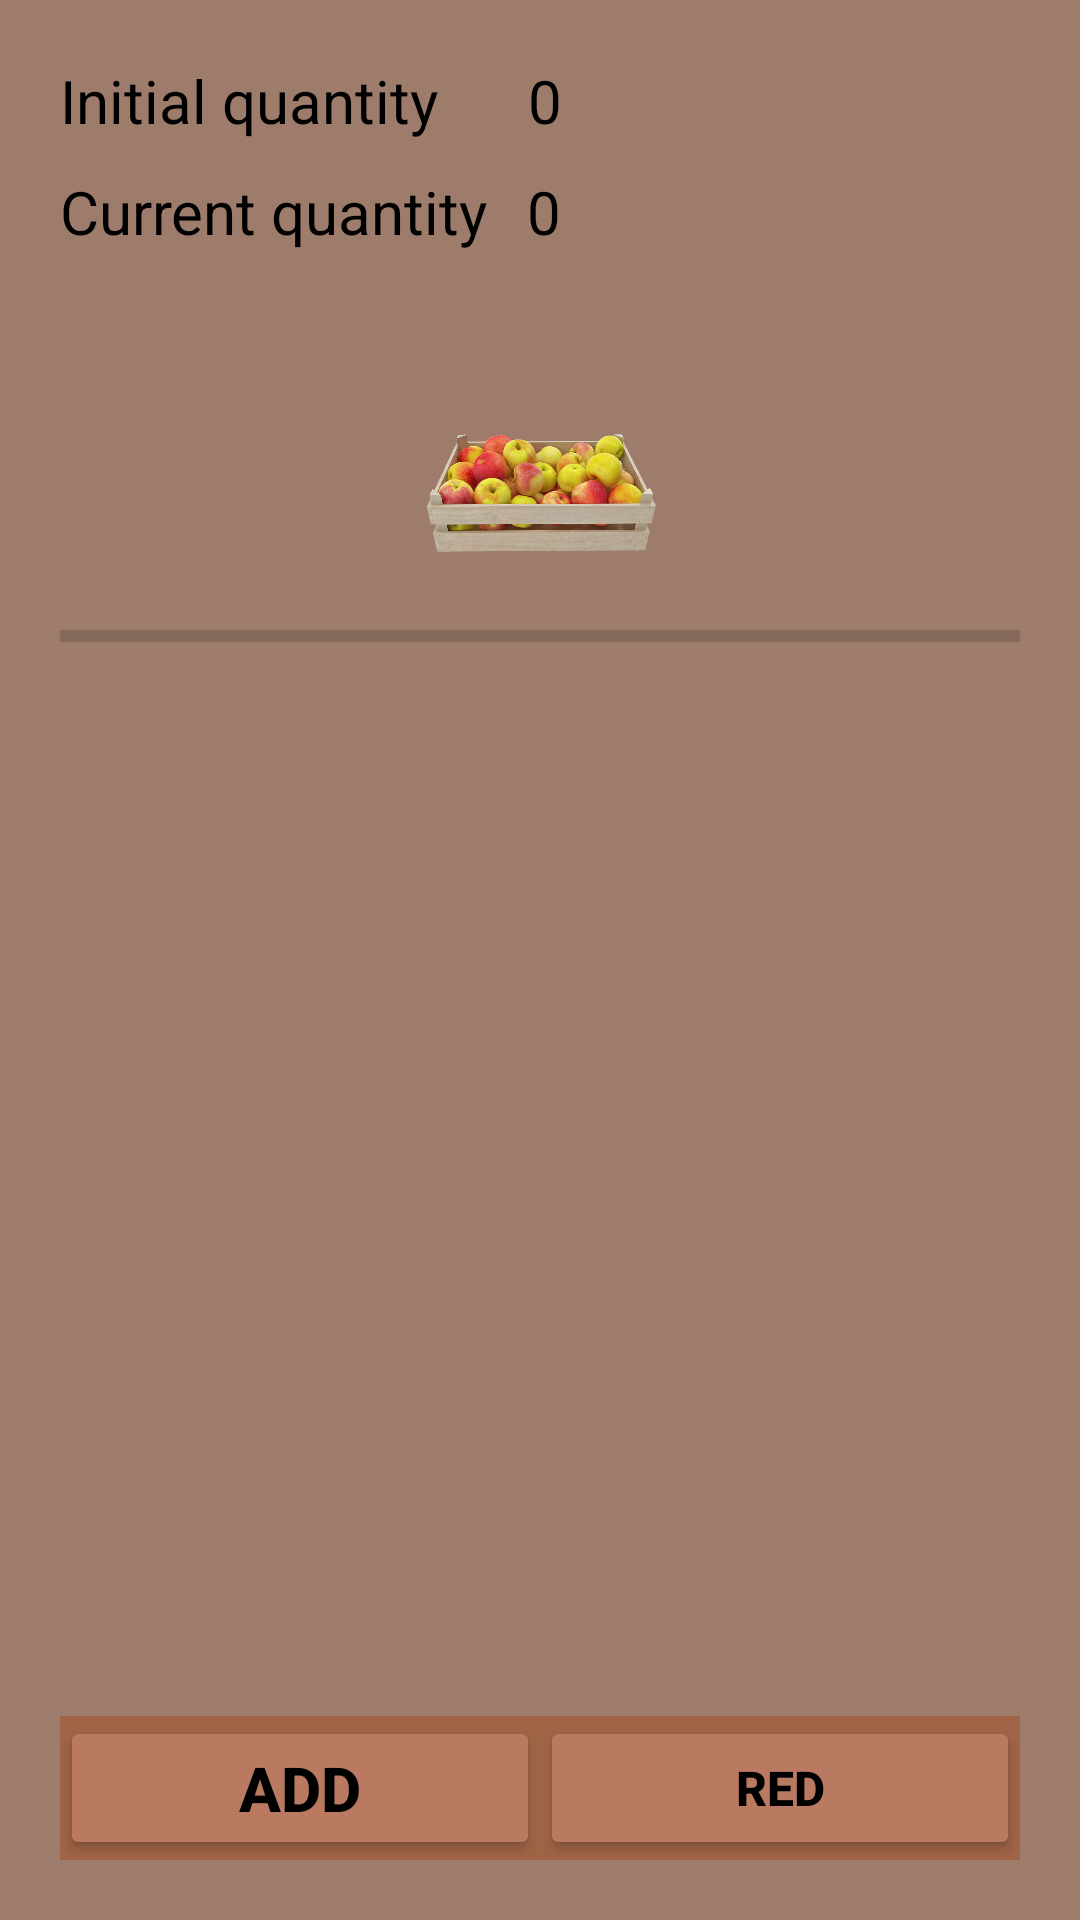

Screen size 1080x1920. Icon name, then its box in pixels as (x1, y1, x2, y2):
box: (427, 434, 656, 552)
